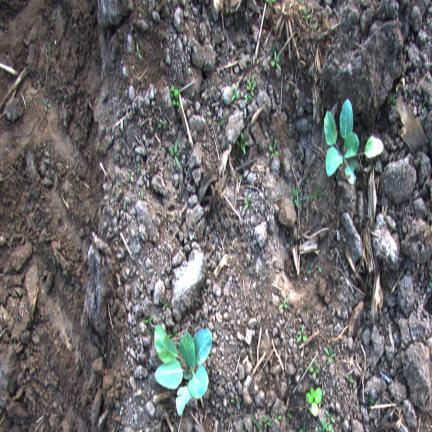crop: (155, 325, 212, 415), (324, 99, 383, 184)
